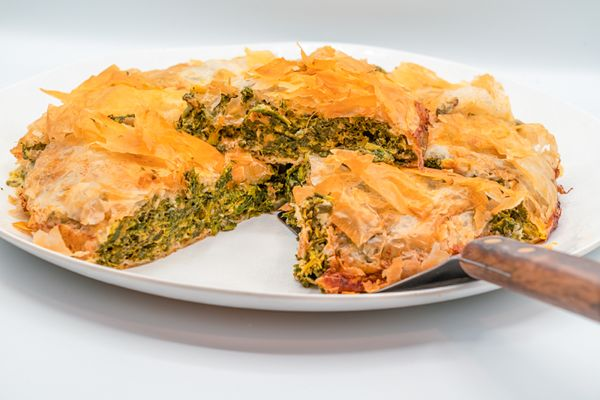sandwich: (461, 233, 600, 324)
